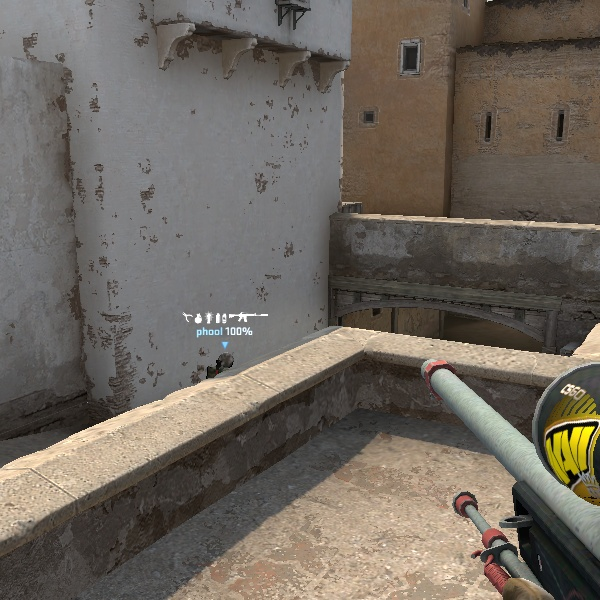ct_body: (206, 352, 243, 376)
ct_head: (217, 352, 235, 368)
